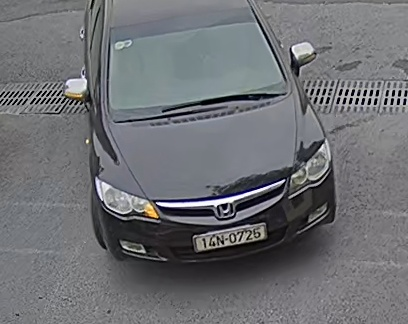vehicle plate: (193, 222, 269, 253)
